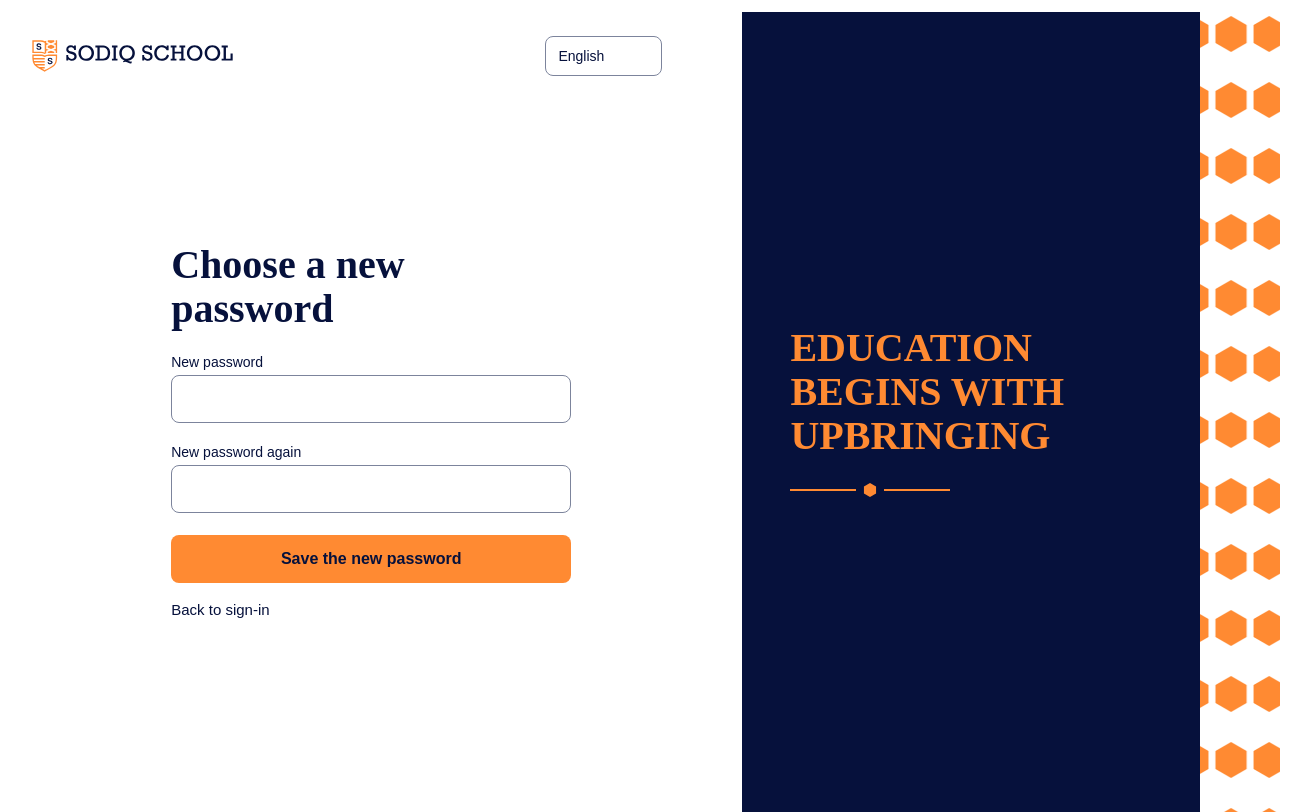
Test: the page of the reset link › shows reset_link_invalid and offers a new link
The image size is (1292, 812).
Type "a chosen new password 7" into the password field labelled "New password" at (371, 399), box [171,375,571,423]
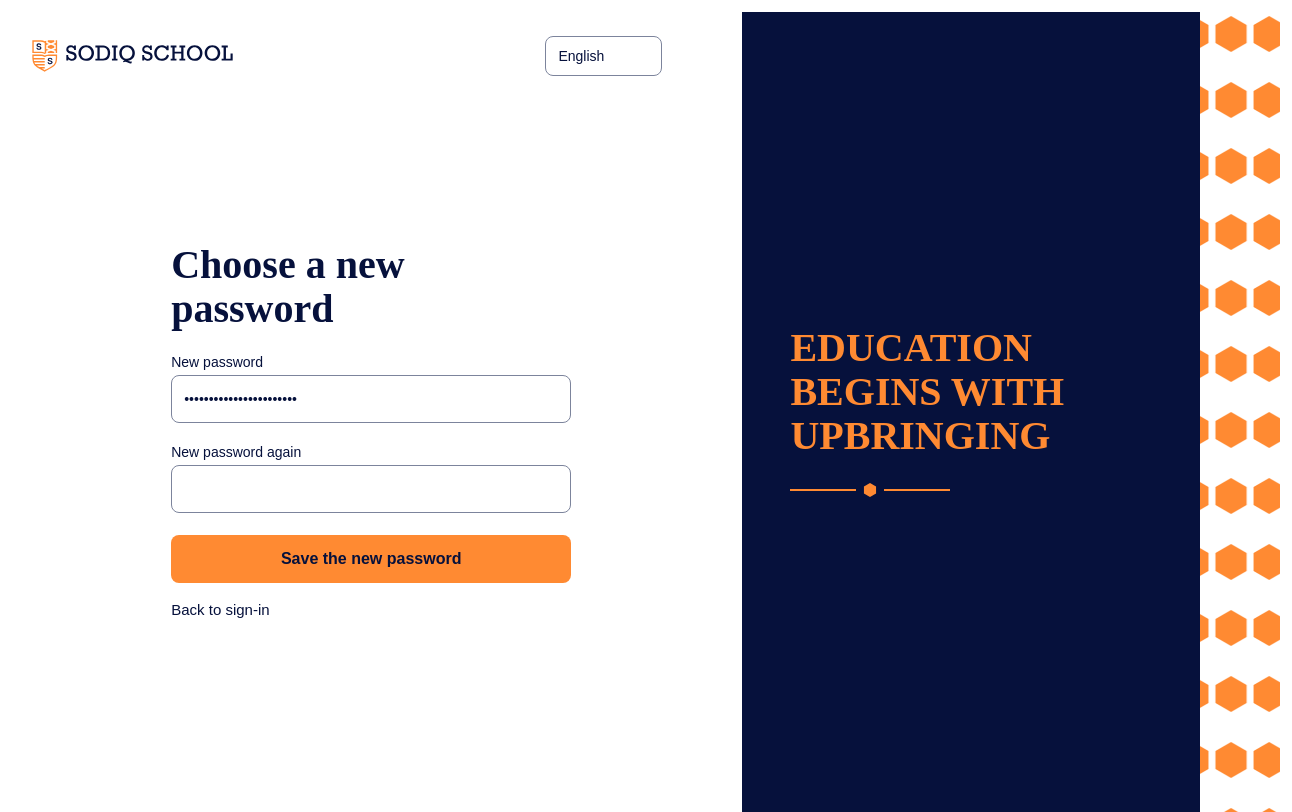
Type "a chosen new password 7" into the password field labelled "New password again" at (371, 489), box [171,465,571,513]
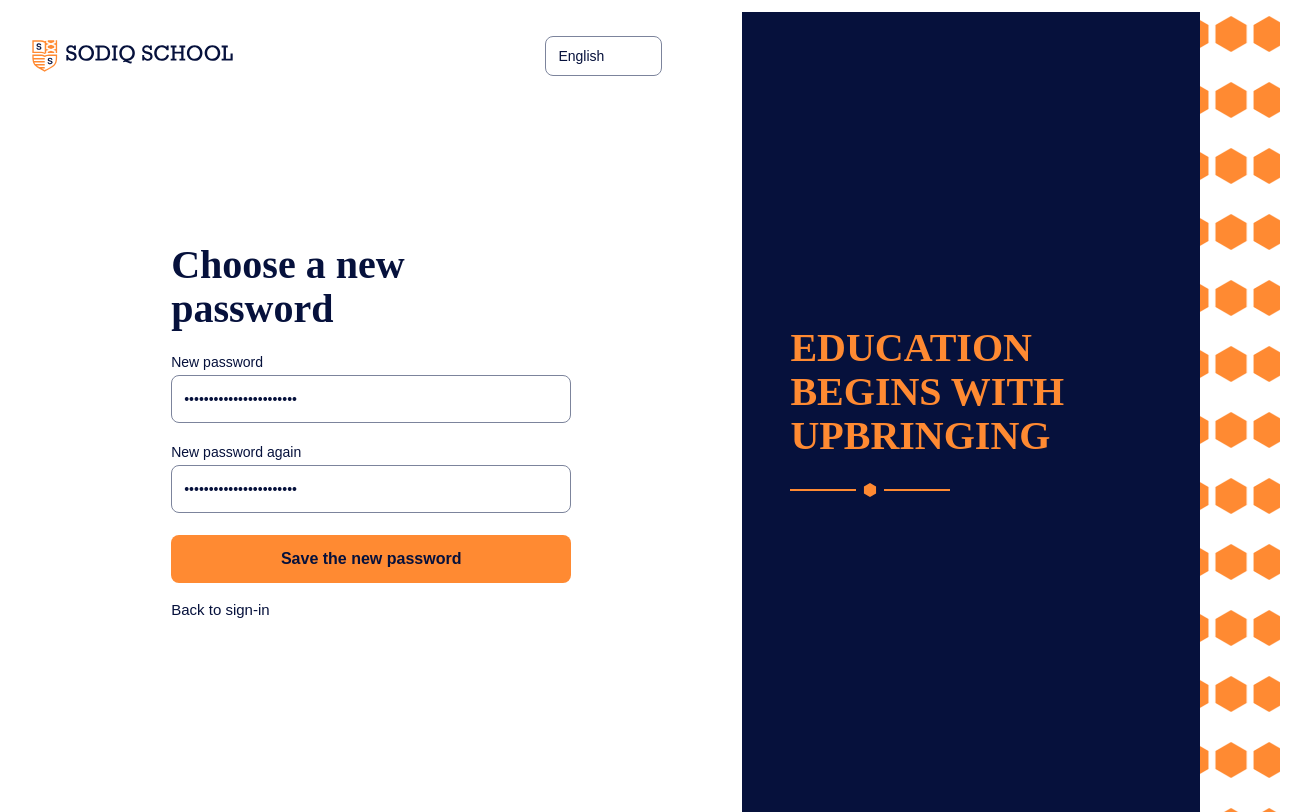
Click the button "Save the new password" at (371, 559), box [171,535,571,583]
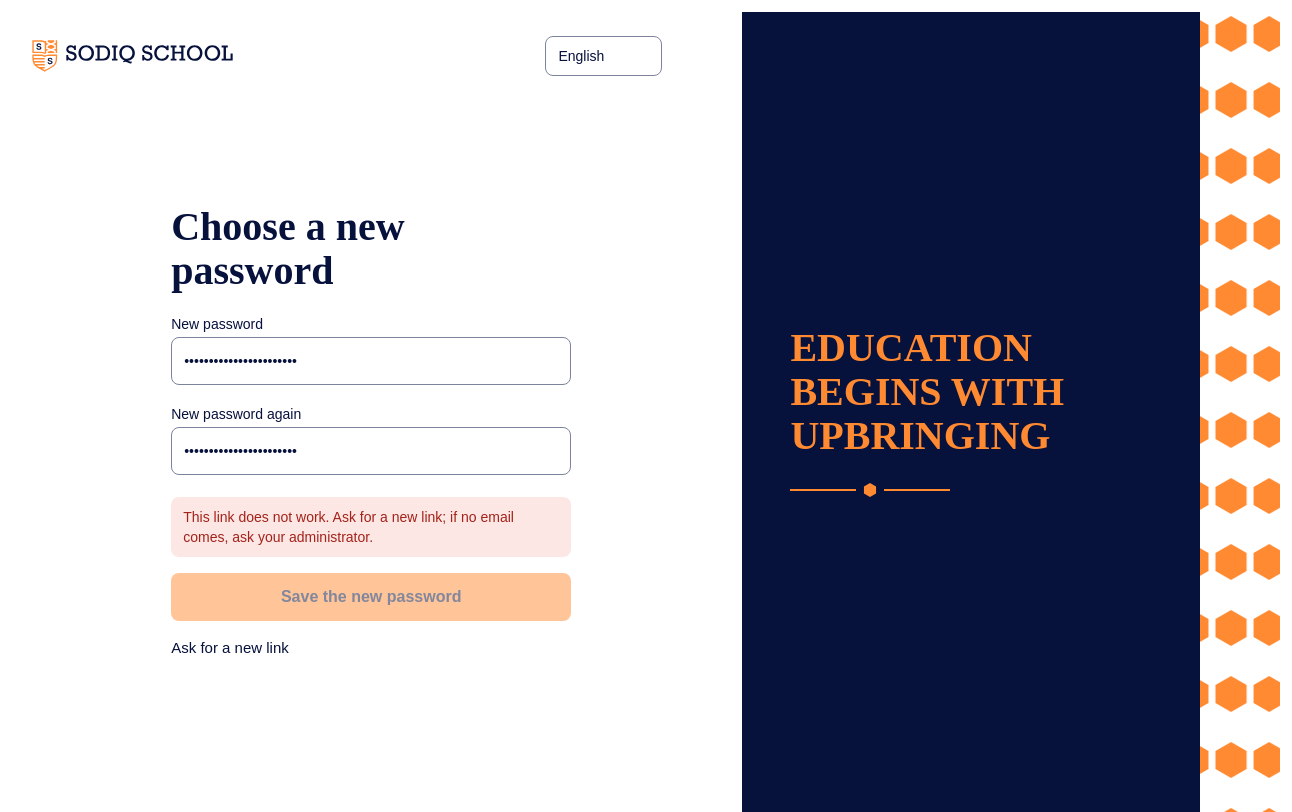
Expected: the text "This link does not work. Ask for a new link; if no email comes, ask your administrator." is shown, [183,509,514,545]
Expected: the button "Save the new password" is disabled, [171,573,571,621]
